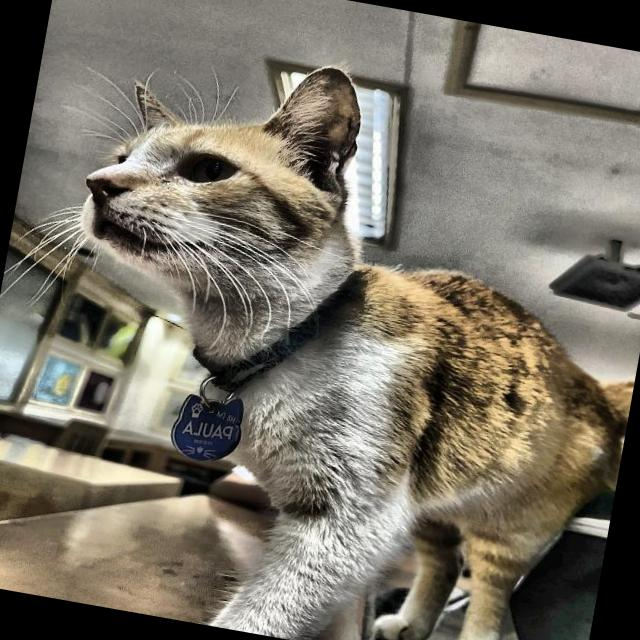Healthy skin: (227, 45, 377, 266), (372, 316, 564, 482)
